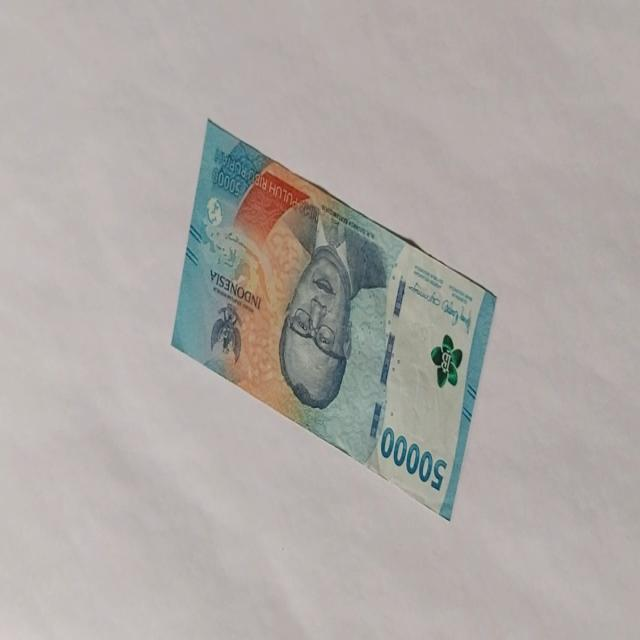lima puluh ribu rupiah: (170, 116, 498, 522), (379, 424, 447, 492)
